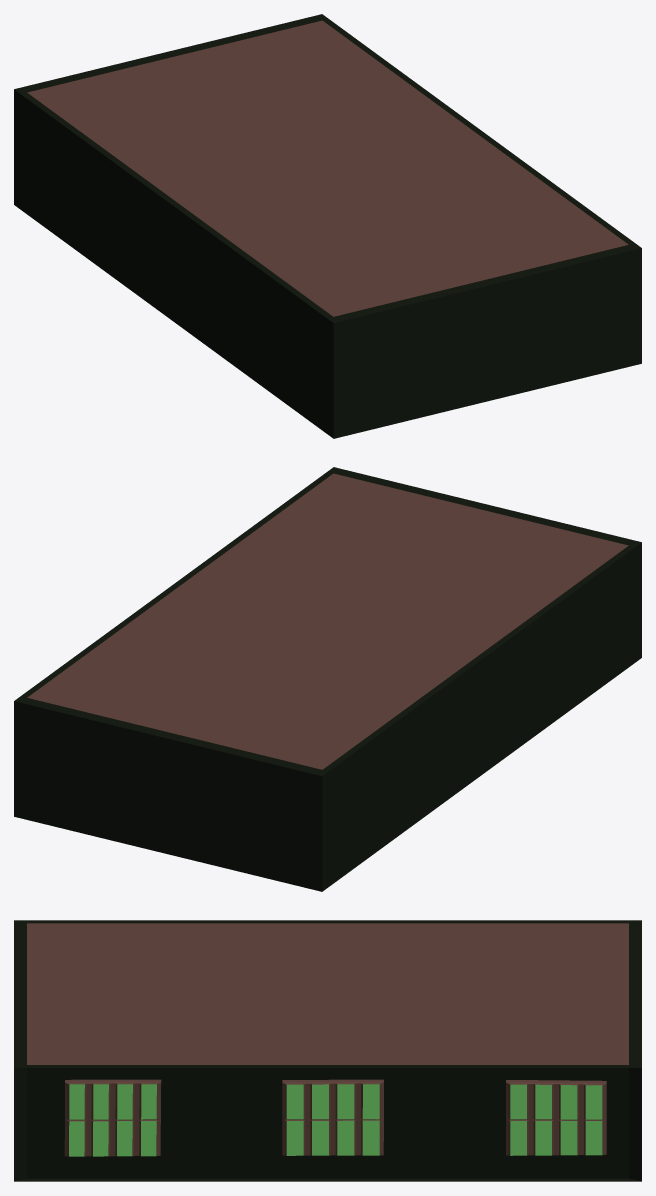
Rendered from LOCATIONE_SCHOOL.fbx.
3 views of the same model, one above another, from view 1: azimuth 30°, elevation 25°; view 2: azimuth 150°, elevation 25°; view 3: azimuth 270°, elevation 25° (orthographic).
Visible parts, largest first — view 1: Plane; view 2: Plane; view 3: Plane.
Boxes of the visible parts, left/top/right/bottom form: Plane: left=14, top=14, right=641, bottom=438; Plane: left=14, top=467, right=641, bottom=891; Plane: left=14, top=920, right=641, bottom=1181.
Bounding box in the file's own units: 1729 × 617 × 3091.
